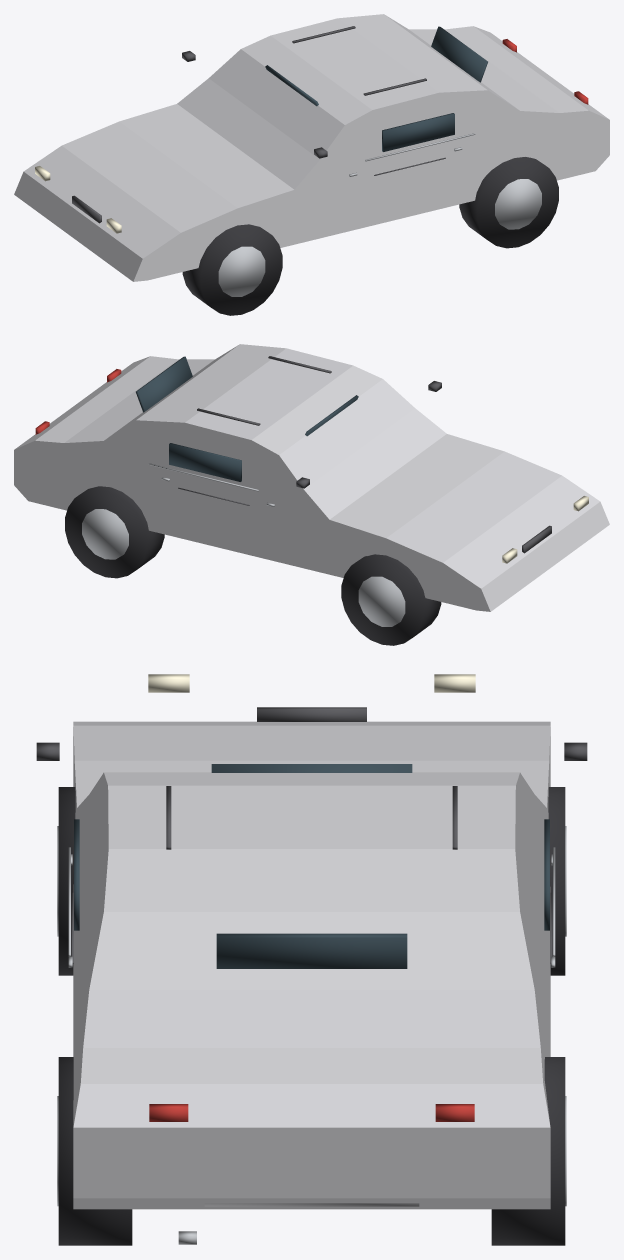
The model's file is taxi.glb.
3 views of the same model, one above another, from view 1: azimuth 30°, elevation 25°; view 2: azimuth 150°, elevation 25°; view 3: azimuth 270°, elevation 25° (orthographic). The views are drawn at different scales.
Visible parts, largest first — view 1: body_main, wheel_rear_r, wheel_front_r, trim_rim__front_r, trim_rim__rear_r, glass_side_r, glass_rear; view 2: body_main, wheel_rear_l, wheel_front_l, trim_rim__front_l, trim_rim__rear_l, glass_side_l, glass_rear; view 3: body_main, glass_rear, wheel_rear_l, wheel_rear_r, wheel_front_l, wheel_front_r, glass_windshield, trim_grille, body_bumper_rear, headlight_l, headlight_r.
Boxes of the visible parts, x1,y1,x2,y2 form: body_main: (14, 14, 609, 281); wheel_rear_r: (459, 157, 558, 248); wheel_front_r: (182, 224, 282, 315); trim_rim__front_r: (218, 246, 265, 296); trim_rim__rear_r: (495, 179, 541, 229); glass_side_r: (382, 113, 454, 151); glass_rear: (431, 26, 487, 82); body_main: (14, 344, 609, 611); wheel_rear_l: (65, 486, 164, 578); wheel_front_l: (341, 554, 441, 645); trim_rim__front_l: (358, 576, 405, 626); trim_rim__rear_l: (82, 509, 128, 559); glass_side_l: (169, 443, 241, 481); glass_rear: (136, 356, 192, 412); body_main: (73, 721, 550, 1209); glass_rear: (216, 933, 407, 968); wheel_rear_l: (491, 1057, 565, 1245); wheel_rear_r: (58, 1057, 132, 1245); wheel_front_l: (548, 787, 565, 975); wheel_front_r: (58, 787, 75, 975); glass_windshield: (211, 764, 412, 772); trim_grille: (257, 707, 366, 721); body_bumper_rear: (204, 1203, 419, 1206); headlight_l: (434, 674, 475, 692); headlight_r: (148, 674, 189, 692).
Bounding box in the file's own units: 4.85 × 1.58 × 2.4.
